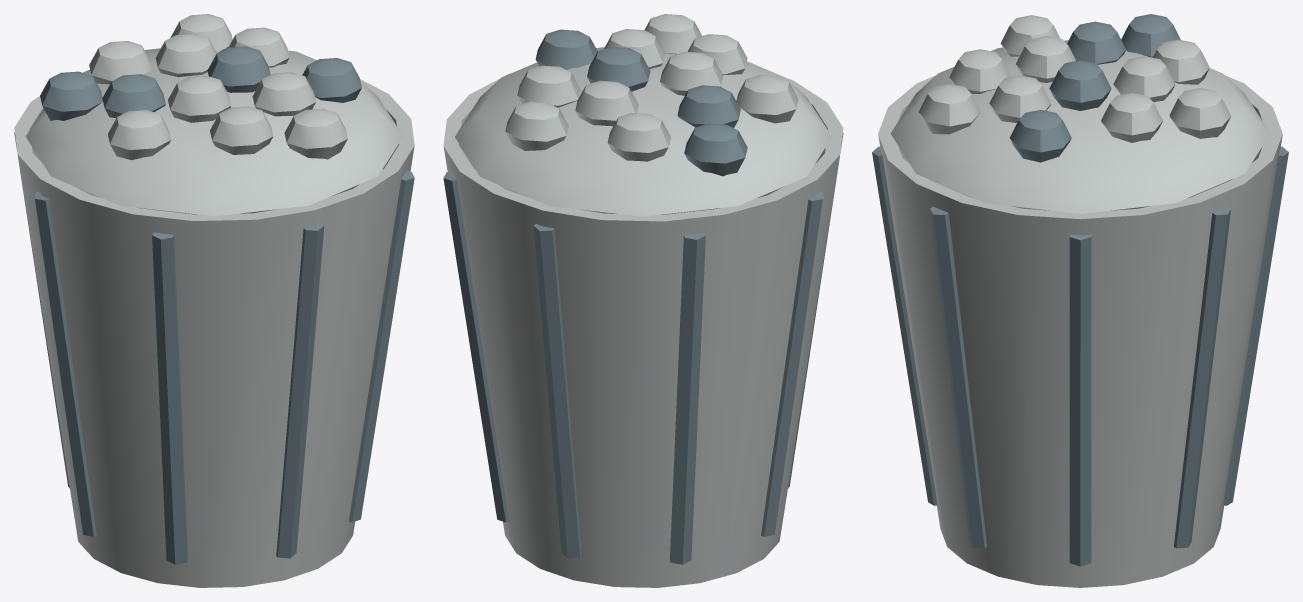
The model's file is popcorn-bucket.glb.
The picture shows the model from 3 angles, left to right: view 1: azimuth 30°, elevation 25°; view 2: azimuth 150°, elevation 25°; view 3: azimuth 270°, elevation 25°; orthographic projection.
Visible parts, largest first — view 1: bucket, popcorn_heap, bucket_stripe.003, bucket_stripe.002, bucket_stripe.004, bucket_stripe.001, popped_kernel_11, popped_kernel_09, popped_kernel_06, popped_kernel_12, popped_kernel_01, popped_kernel_03 (+7 smaller); view 2: bucket, popcorn_heap, bucket_stripe.005, bucket_stripe.006, bucket_stripe.004, bucket_stripe.007, popped_kernel_12, popped_kernel_10, popped_kernel_07, popped_kernel_09, popped_kernel_02, popped_kernel_04 (+7 smaller); view 3: bucket, popcorn_heap, bucket_stripe, bucket_stripe.001, bucket_stripe.007, bucket_stripe.002, bucket_stripe.006, popped_kernel_08, popped_kernel_00, popped_kernel_11, popped_kernel_10, popped_kernel_05 (+8 smaller).
Part boxes in pixels (x1=…): bucket: x1=14, y1=79, x2=414, y2=587; popcorn_heap: x1=25, y1=48, x2=403, y2=216; bucket_stripe.003: x1=152, y1=232, x2=187, y2=564; bucket_stripe.002: x1=276, y1=223, x2=324, y2=558; bucket_stripe.004: x1=35, y1=191, x2=96, y2=536; bucket_stripe.001: x1=349, y1=170, x2=414, y2=522; popped_kernel_11: x1=284, y1=108, x2=347, y2=159; popped_kernel_09: x1=107, y1=110, x2=171, y2=160; popped_kernel_06: x1=210, y1=106, x2=273, y2=154; popped_kernel_12: x1=40, y1=71, x2=102, y2=120; popped_kernel_01: x1=168, y1=75, x2=231, y2=122; popped_kernel_03: x1=252, y1=72, x2=315, y2=116; bucket: x1=443, y1=73, x2=843, y2=587; popcorn_heap: x1=455, y1=47, x2=831, y2=216; bucket_stripe.005: x1=670, y1=232, x2=705, y2=564; bucket_stripe.006: x1=533, y1=224, x2=581, y2=558; bucket_stripe.004: x1=761, y1=191, x2=822, y2=536; bucket_stripe.007: x1=443, y1=171, x2=509, y2=522; popped_kernel_12: x1=684, y1=123, x2=747, y2=176; popped_kernel_10: x1=505, y1=101, x2=568, y2=150; popped_kernel_07: x1=607, y1=113, x2=670, y2=161; popped_kernel_09: x1=736, y1=75, x2=798, y2=123; popped_kernel_02: x1=575, y1=80, x2=638, y2=126; popped_kernel_04: x1=677, y1=85, x2=740, y2=127; bucket: x1=878, y1=75, x2=1282, y2=587; popcorn_heap: x1=890, y1=40, x2=1270, y2=213; bucket_stripe: x1=1069, y1=234, x2=1091, y2=566; bucket_stripe.001: x1=930, y1=206, x2=986, y2=548; bucket_stripe.007: x1=1174, y1=206, x2=1230, y2=548; bucket_stripe.002: x1=872, y1=146, x2=937, y2=505; bucket_stripe.006: x1=1223, y1=146, x2=1288, y2=505; popped_kernel_08: x1=1010, y1=110, x2=1071, y2=162; popped_kernel_00: x1=1049, y1=60, x2=1111, y2=110; popped_kernel_11: x1=918, y1=84, x2=980, y2=134; popped_kernel_10: x1=1169, y1=88, x2=1230, y2=138; popped_kernel_05: x1=1101, y1=93, x2=1162, y2=142.
Bounding box in the file's own units: 0.1339 × 0.1693 × 0.1339.
